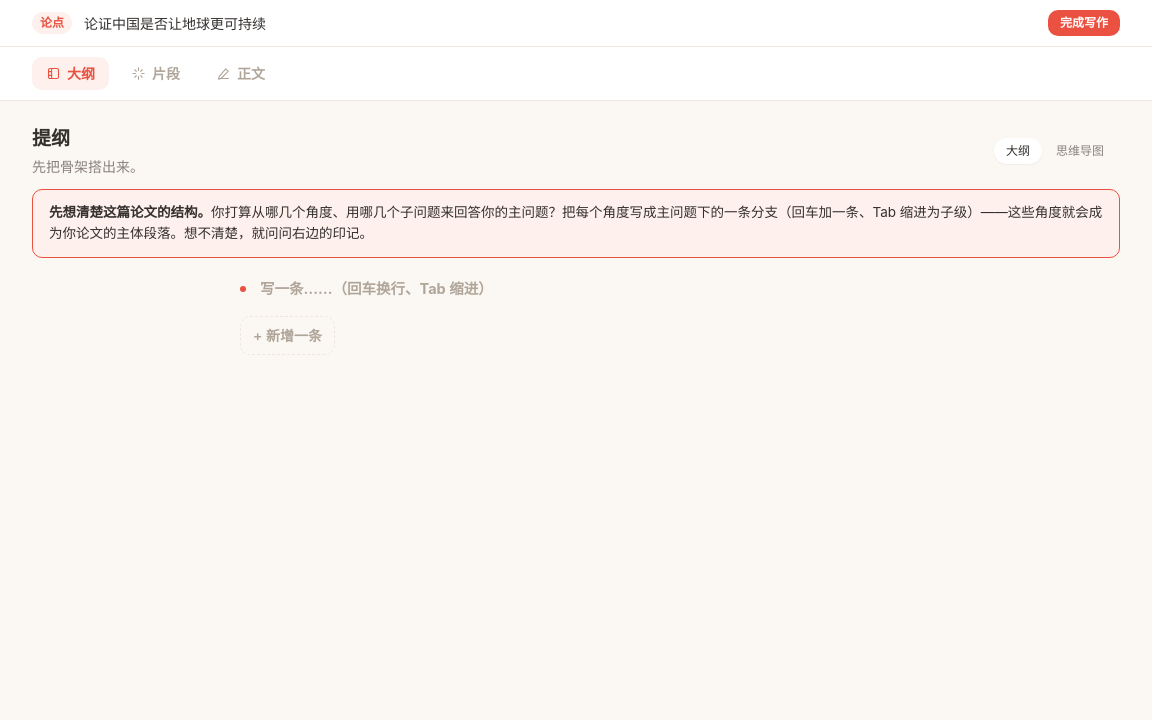
Test case: WritingBlock · 整稿体检 (WA) › retries once on a transient failure, then surfaces the network-flavored message if both fail (item #10)
The image size is (1152, 720).
Click the button "正文".
click(240, 74)  # box [202,57,279,90]
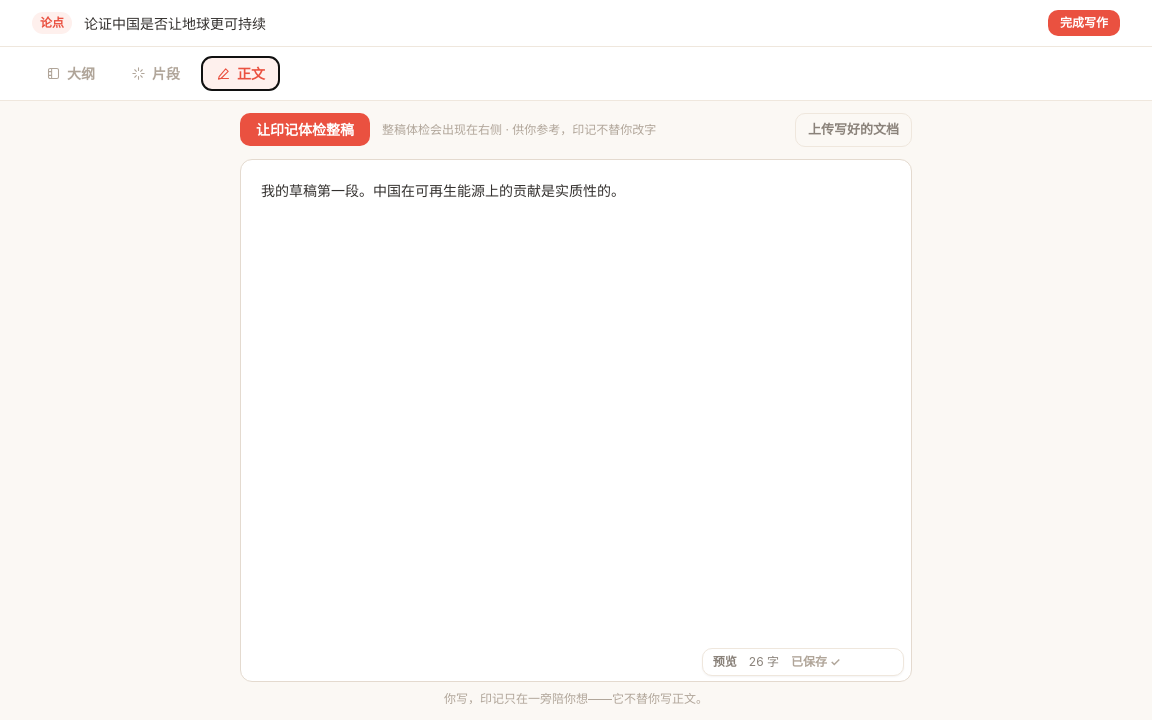
Click the button "让印记体检整稿".
click(305, 130)  # box [240,113,370,146]
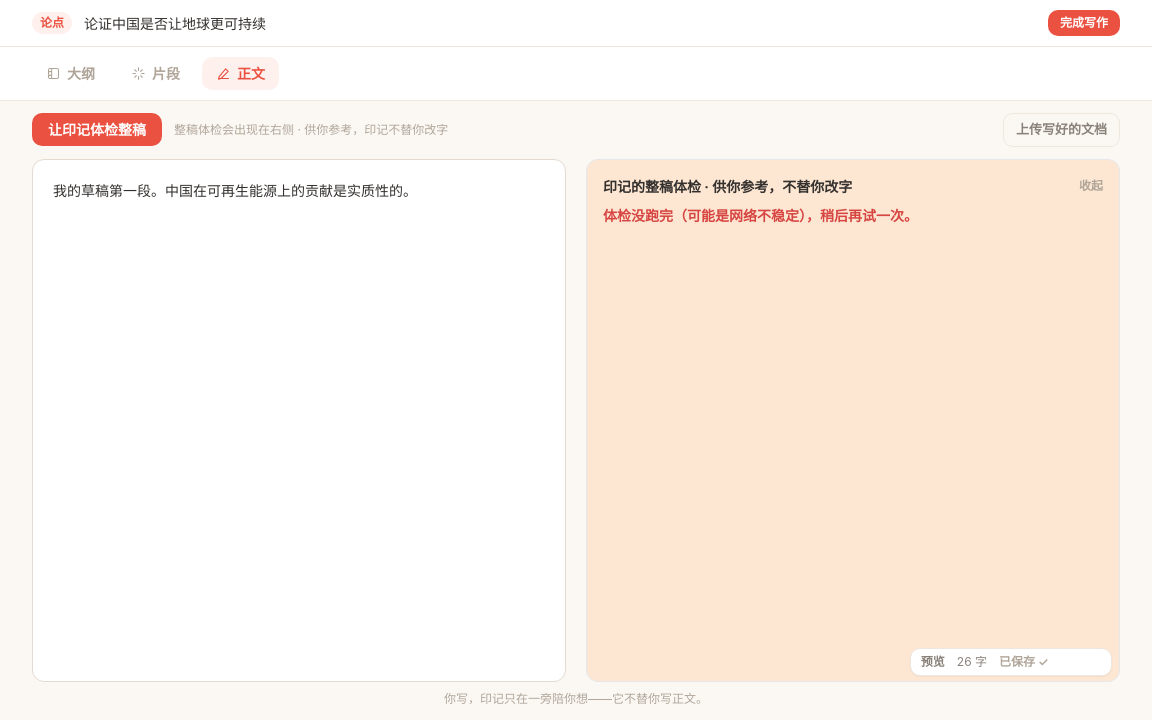
Check: the text "体检没跑完（可能是网络不稳定），稍后再试一次。" is shown, box [603,206,918,224]
